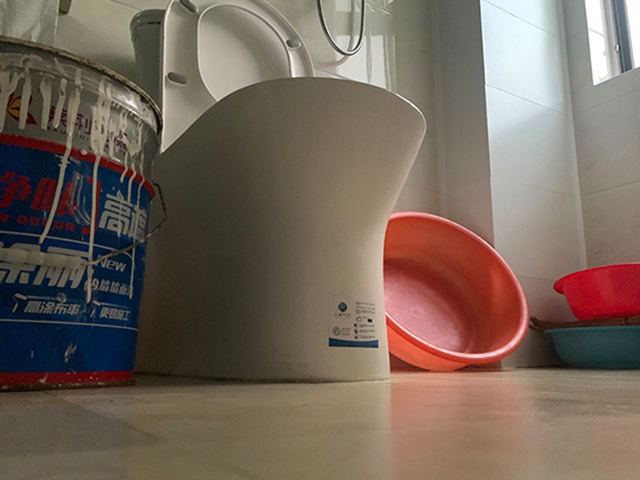closestool: (137, 1, 426, 381)
